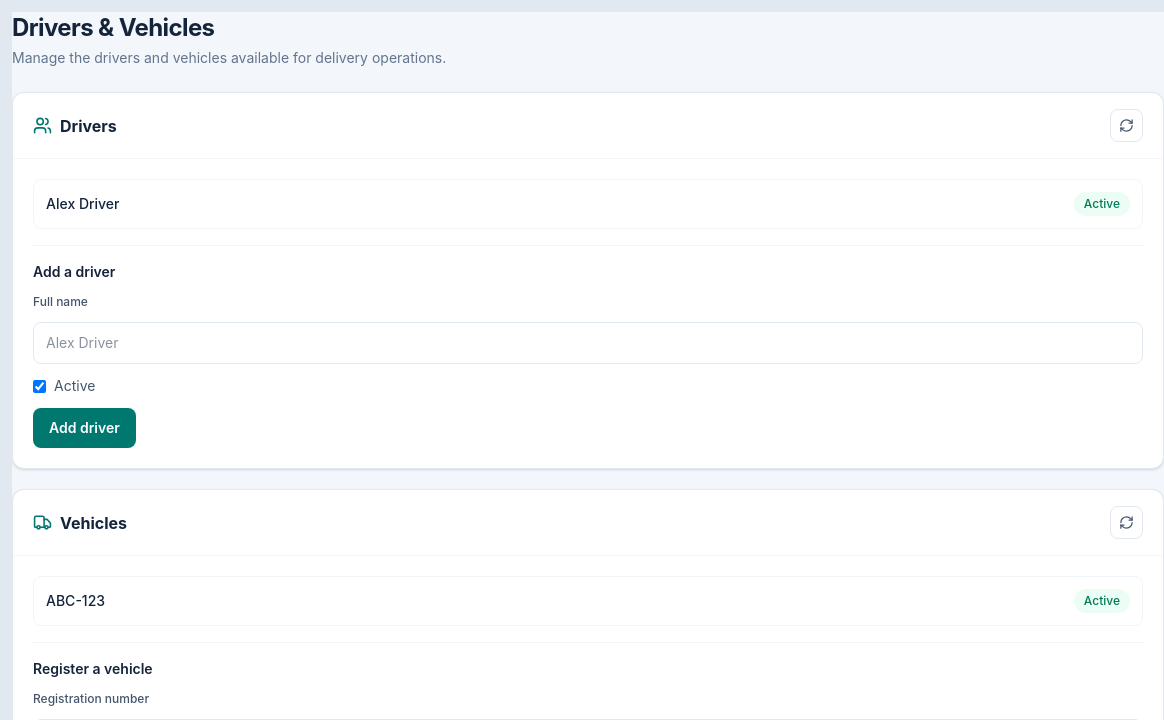
Test: FleetManagementPage › creates a driver and refreshes the driver list
The width and height of the screenshot is (1164, 720).
Expected: the text "Alex Driver" is shown, x1=46 y1=194 x2=120 y2=214
In the field labelled "Full name": x=588, y=343 x1=33 y1=322 x2=1143 y2=364, type "  ALT026 Test Driver  "
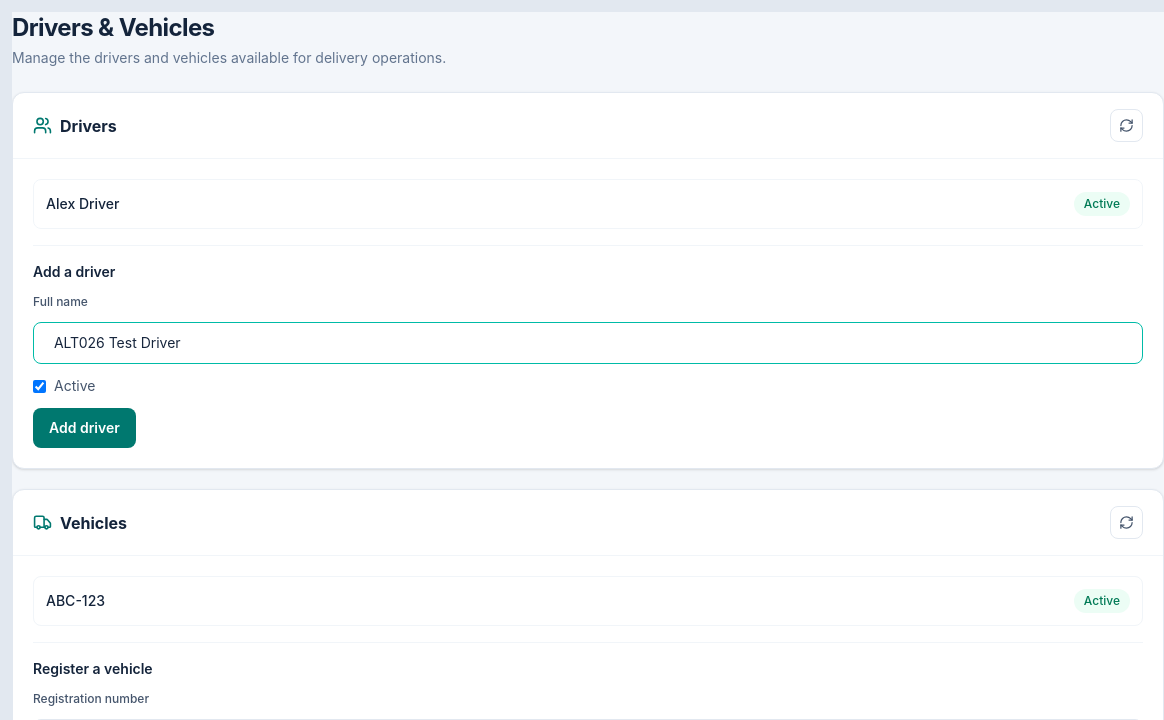
Click the button "Add driver": x=84, y=428 x1=33 y1=408 x2=136 y2=448
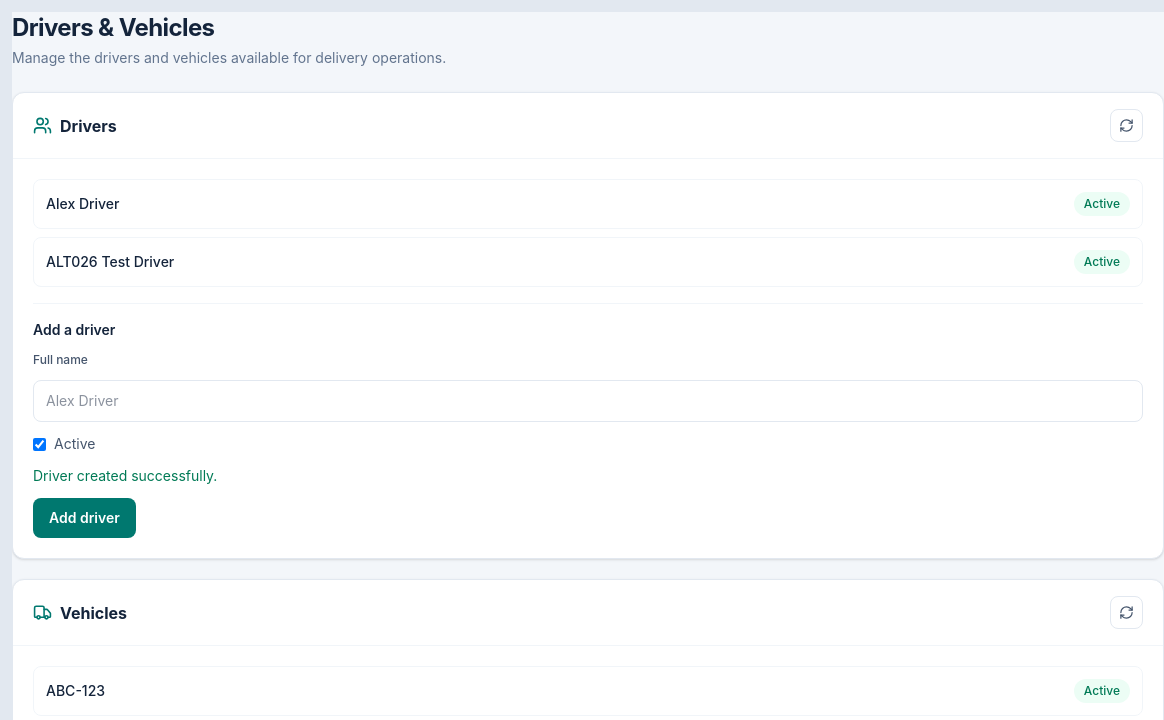
Expected: the text "ALT026 Test Driver" is shown, x1=46 y1=252 x2=174 y2=272
Expected: the text "Driver created successfully." is shown, x1=33 y1=467 x2=217 y2=484
Expected: the field labelled "Full name" is empty, x1=33 y1=380 x2=1143 y2=422
